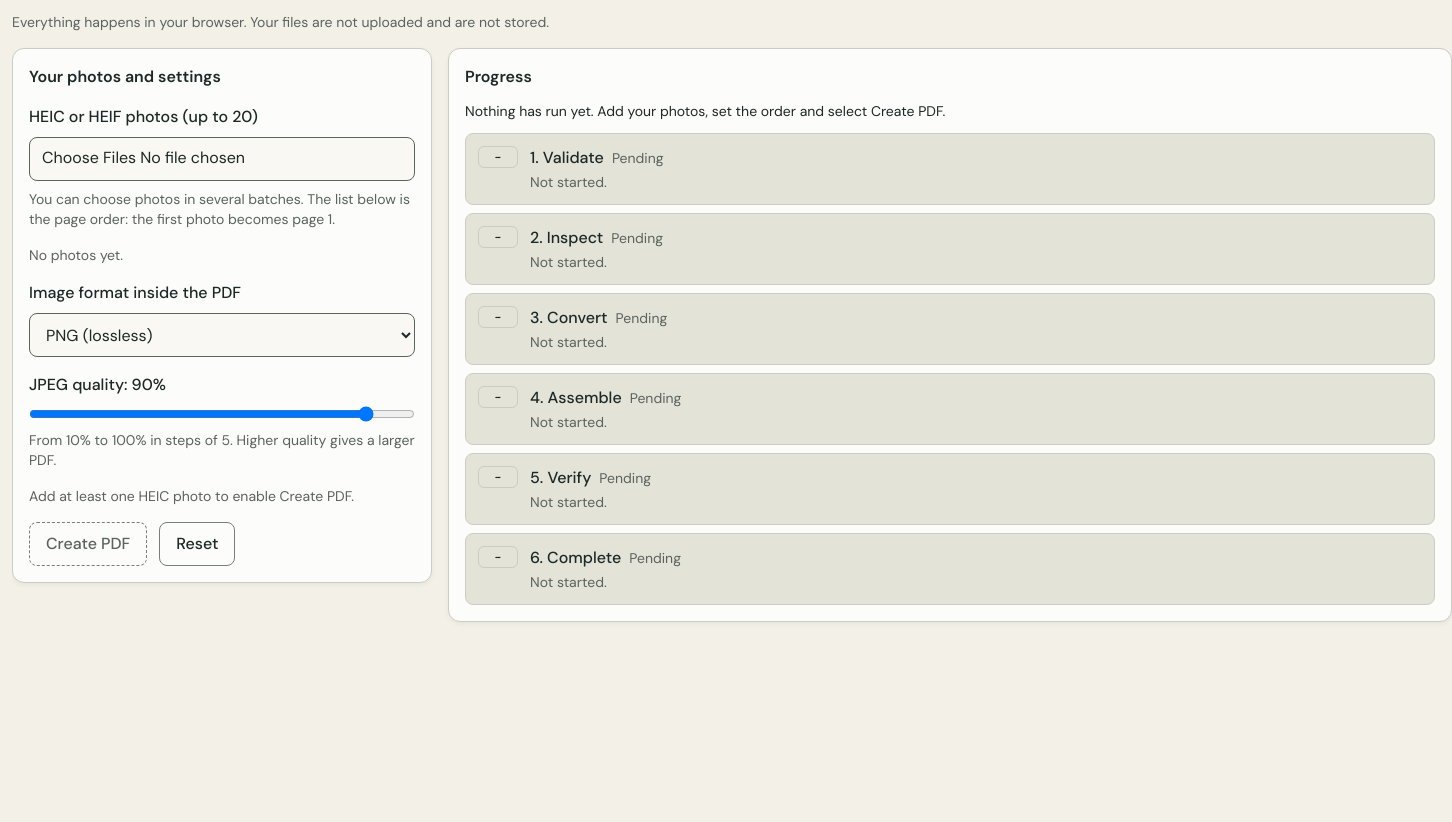
Scenario: HEIC photos to PDF client › labels every control and shows the quality slider only for JPEG
This screenshot has width=1452, height=822.
Expected: the label "JPEG quality: 90%" is shown, [29,374,166,395]
Select "PNG (lossless)" in the dropdown labelled "Image format inside the PDF" at (222, 335), box [29,313,415,357]
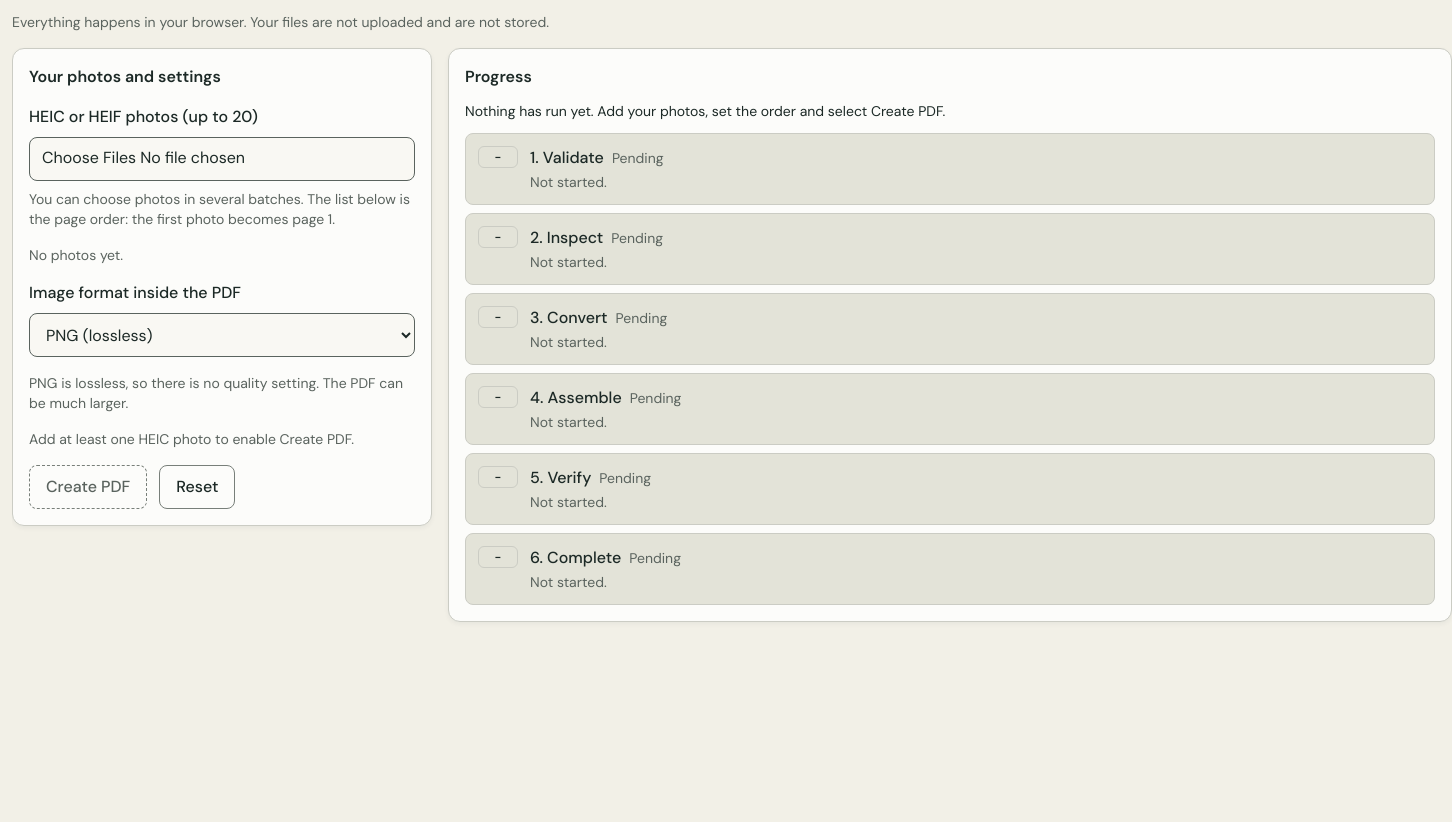
Result: the label with id "heic-quality" is gone
Result: the text "no quality setting" is shown at [29,374,403,412]
